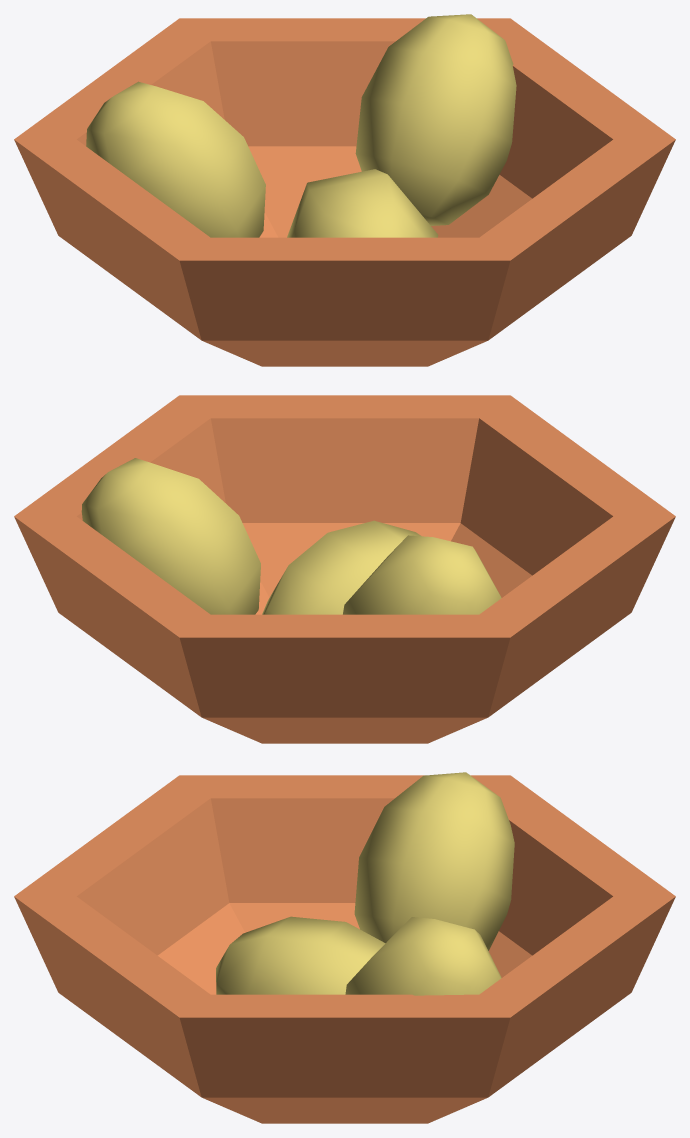
Rendered from 13_Ninho.fbx.
The picture shows the model from 3 angles, top to bottom: view 1: azimuth 30°, elevation 25°; view 2: azimuth 150°, elevation 25°; view 3: azimuth 270°, elevation 25°; orthographic projection.
Parts seen in each view (by area): view 1: Ovos; view 2: Ovos; view 3: Ovos.
Part boxes in pixels (x1,y1,x2,y2): Ovos: (14, 14, 675, 366); Ovos: (14, 395, 675, 743); Ovos: (14, 772, 675, 1123).
Size of the model in its own units: 81.74 by 36.32 by 94.38.
